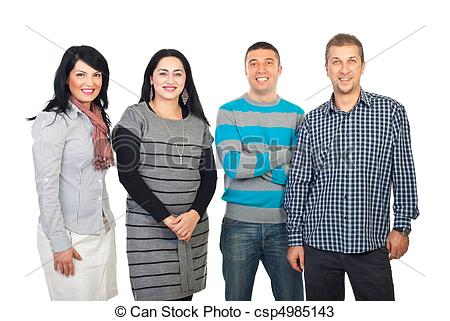person: (118, 30, 217, 190), (305, 17, 410, 147), (212, 30, 312, 158), (31, 40, 125, 170)
